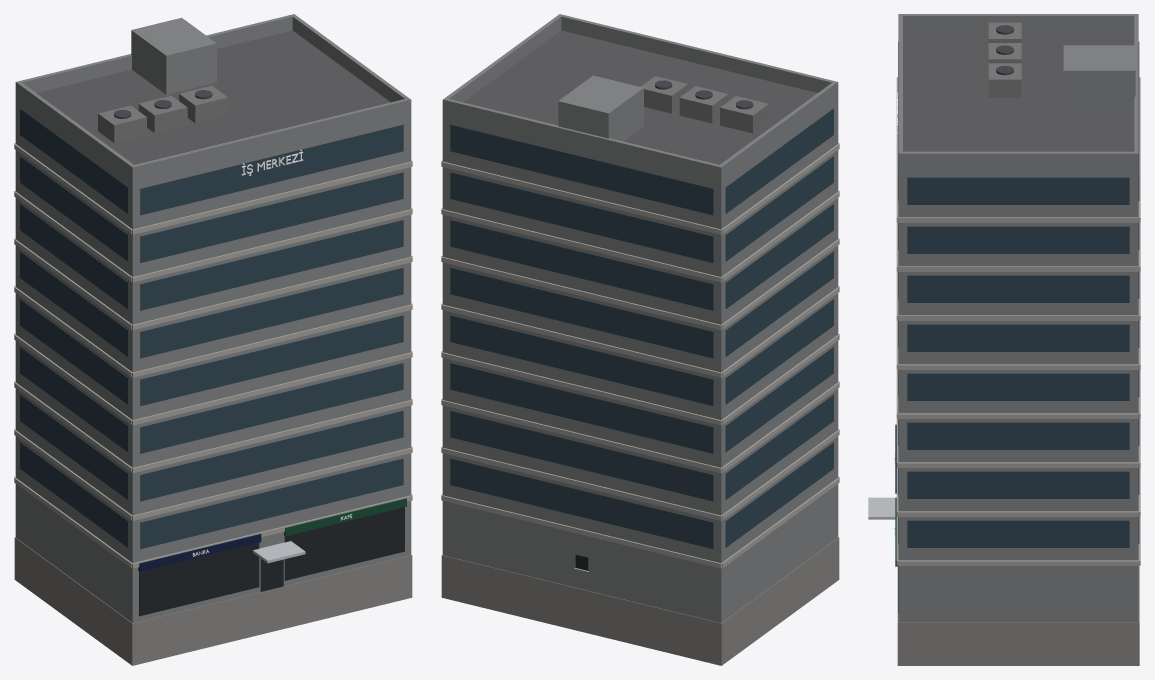
Rendered from bina_13.glb.
3 views of the same model, side by side, from view 1: azimuth 30°, elevation 25°; view 2: azimuth 150°, elevation 25°; view 3: azimuth 270°, elevation 25° (orthographic). The views are drawn at different scales.
Parts seen in each view (by area): view 1: P13_IsHani_A_L1.001; view 2: P13_IsHani_A_L1.001; view 3: P13_IsHani_A_L1.001.
Part boxes in pixels (x1,y1,x2,y2): P13_IsHani_A_L1.001: (14,14,412,665); P13_IsHani_A_L1.001: (441,14,839,665); P13_IsHani_A_L1.001: (868,14,1140,665).
Size of the model in its own units: 22.24 by 39.5 by 18.12.
